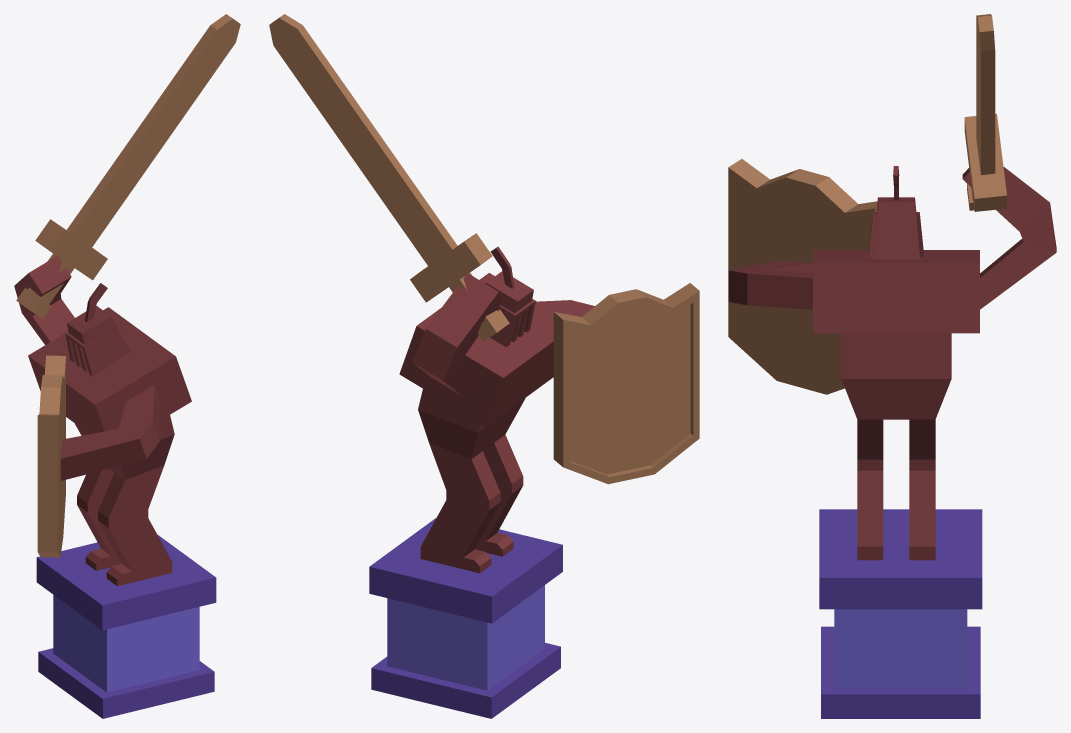
File: statue.fbx
The picture shows the model from 3 angles, left to right: view 1: azimuth 30°, elevation 25°; view 2: azimuth 150°, elevation 25°; view 3: azimuth 270°, elevation 25°; orthographic projection. The views are drawn at different scales.
Visible parts, largest first — view 1: Cube.025, Cube.026, Cube.028, Cube.027; view 2: Cube.025, Cube.026, Cube.027, Cube.028; view 3: Cube.025, Cube.026, Cube.027, Cube.028.
Boxes of the visible parts, <box> form: Cube.025: <box>14,256,191,586</box>; Cube.026: <box>36,534,216,718</box>; Cube.028: <box>16,14,240,318</box>; Cube.027: <box>37,355,65,557</box>; Cube.025: <box>399,246,594,573</box>; Cube.026: <box>369,518,562,718</box>; Cube.027: <box>553,283,699,484</box>; Cube.028: <box>269,14,509,341</box>; Cube.025: <box>728,166,1056,560</box>; Cube.026: <box>819,509,982,718</box>; Cube.027: <box>728,159,877,394</box>; Cube.028: <box>964,14,1006,211</box>.
Size of the model in its own units: 862 by 1673 by 662.
